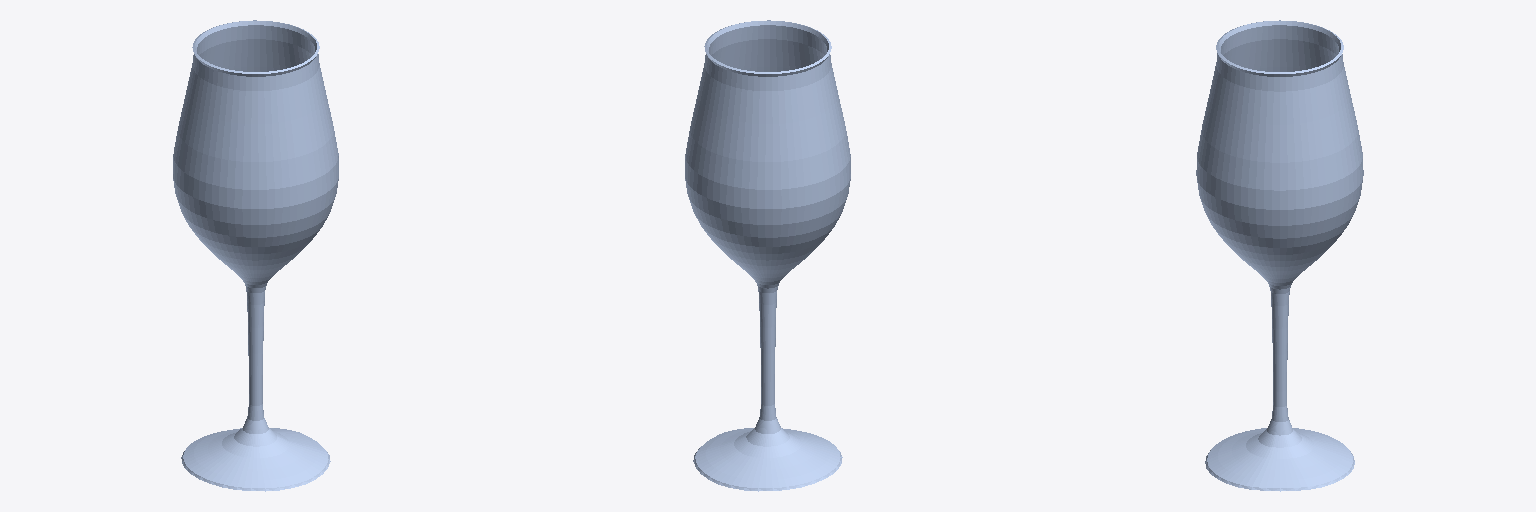
URDF robot description (model.urdf):
<?xml version="0.0" ?>
<robot name="model.urdf">
  <link name="baseLink">
    <contact>
      <friction_anchor/>
      <lateral_friction value="0.3"/>
      <rolling_friction value="0.0"/>
      <contact_cfm value="0.0"/>
      <contact_erp value="1.0"/>
    </contact>
    <inertial>
       <origin rpy="0 0 0" xyz="0 0 0"/>
       <mass value="0.1"/>
       <inertia ixx="3.0e-04" ixy="1.3e-07" ixz="1.4e-10" iyy="5.2e-05" iyz="-2.4e-07" izz="3.1e-04"/>
    </inertial>
    <visual>
      <geometry>
        <mesh filename="textured.dae" scale="0.85 0.85 0.85"/>
      </geometry>
      <material name="blue">
        <color rgba="0.78 0.85 0.97 1."/>
      </material>
    </visual>
    <collision>
      <geometry>
    	 	<mesh filename="textured.dae" scale="0.85 0.85 0.85"/>
      </geometry>
    </collision>
  </link>
</robot>

--- What the picture shows (computed from the rendered views, not written in the file) ---
The picture shows the robot from 3 angles, left to right: view 1: azimuth 30°, elevation 25°; view 2: azimuth 150°, elevation 25°; view 3: azimuth 270°, elevation 25°; orthographic projection.
Robot: model.urdf — 1 links, 0 joints (none); root link baseLink; default pose: all joints at 0.
Visible links, largest first — view 1: baseLink; view 2: baseLink; view 3: baseLink.
Link boxes in pixels (x1=…): baseLink: x1=173, y1=20, x2=338, y2=491; baseLink: x1=685, y1=20, x2=850, y2=491; baseLink: x1=1196, y1=20, x2=1363, y2=491.
Size in the robot's own frame: 0.0501 by 0.0501 by 0.1378 metres.
1 mesh visuals loaded from 1 distinct referenced files (1 Collada DAE).